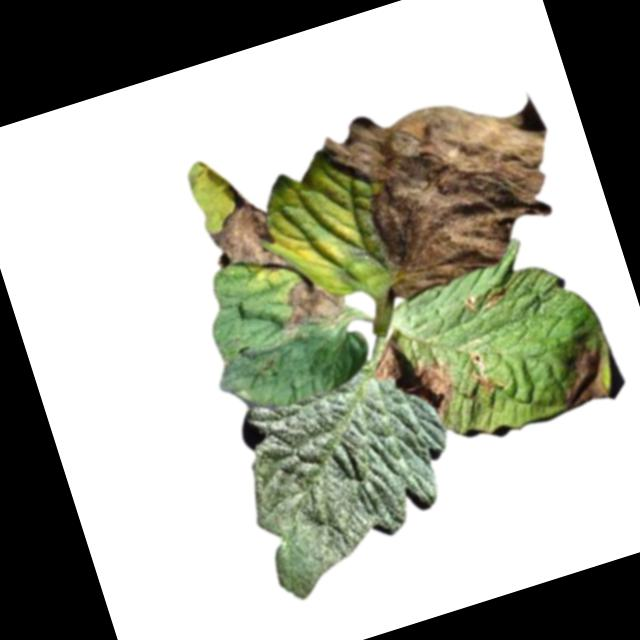Late_blight: (310, 64, 582, 313), (197, 178, 294, 290), (369, 326, 462, 433), (271, 264, 358, 338), (550, 334, 623, 410), (460, 281, 513, 319), (466, 348, 501, 400)
